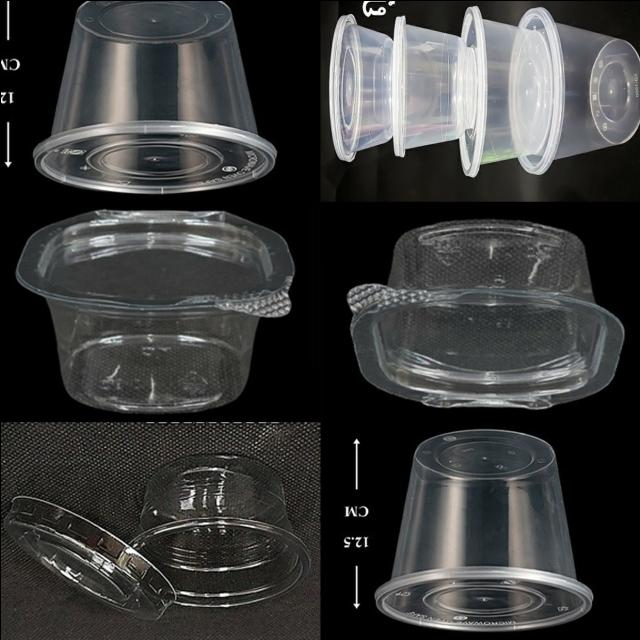plastik: (16, 210, 293, 412), (346, 219, 623, 408), (33, 0, 275, 192), (375, 428, 592, 630), (131, 455, 309, 605), (509, 7, 640, 174), (3, 496, 176, 618), (459, 5, 553, 175), (392, 15, 466, 156), (328, 14, 392, 160)
